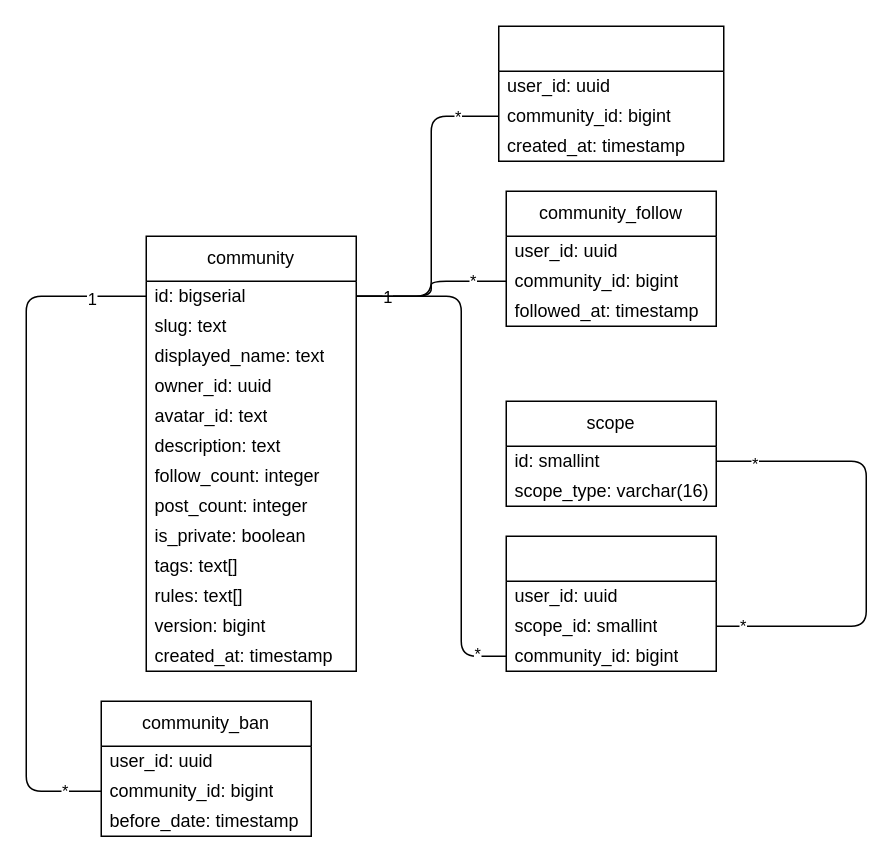
The diagram is 894 pixels wide and 863 high, and some of its shapes have lost their labels. The shapes that lost their labels are listed below. From the top down, each one's box as (x1, y1, x2, y2) in pixels, then its label:
(497, 25, 724, 161): community_follow_request
(505, 535, 716, 671): scope_link
